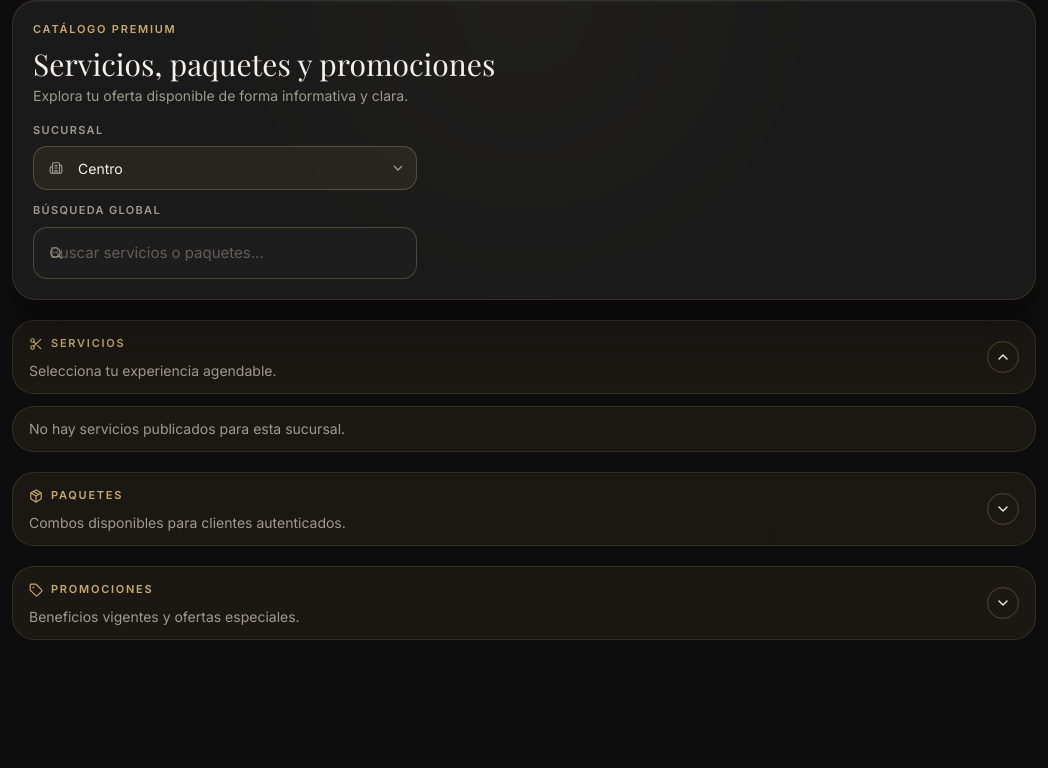
Test: vacio legitimo del cliente muestra empty states y ninguna alerta
Check: the button "No hay servicios publicados para esta sucursal." is shown, box 12,406 -> 1036,452
Click the button "Paquetes Combos disponibles para clientes autenticados." at coordinates (87, 495), box 12,472 -> 1036,546
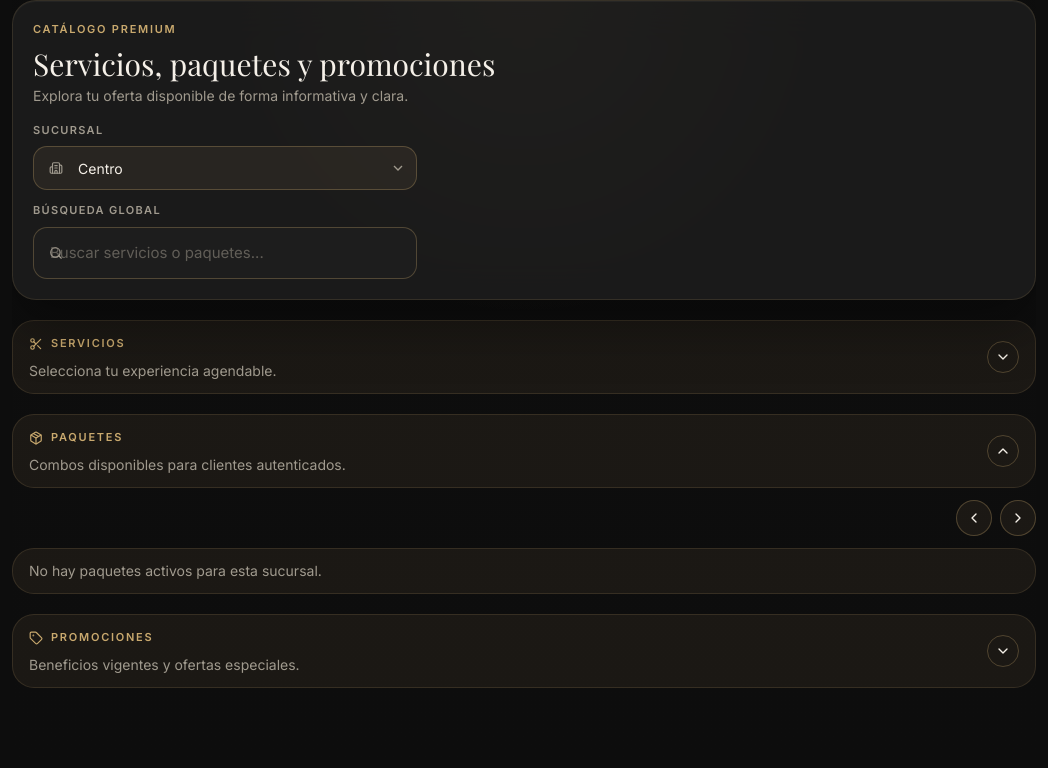
Check: the button "No hay paquetes activos para esta sucursal." is shown, box 12,548 -> 1036,594
